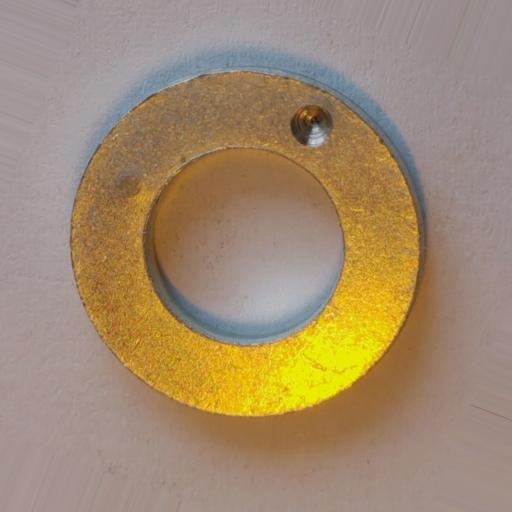circular_cavity: (289, 103, 335, 146)
